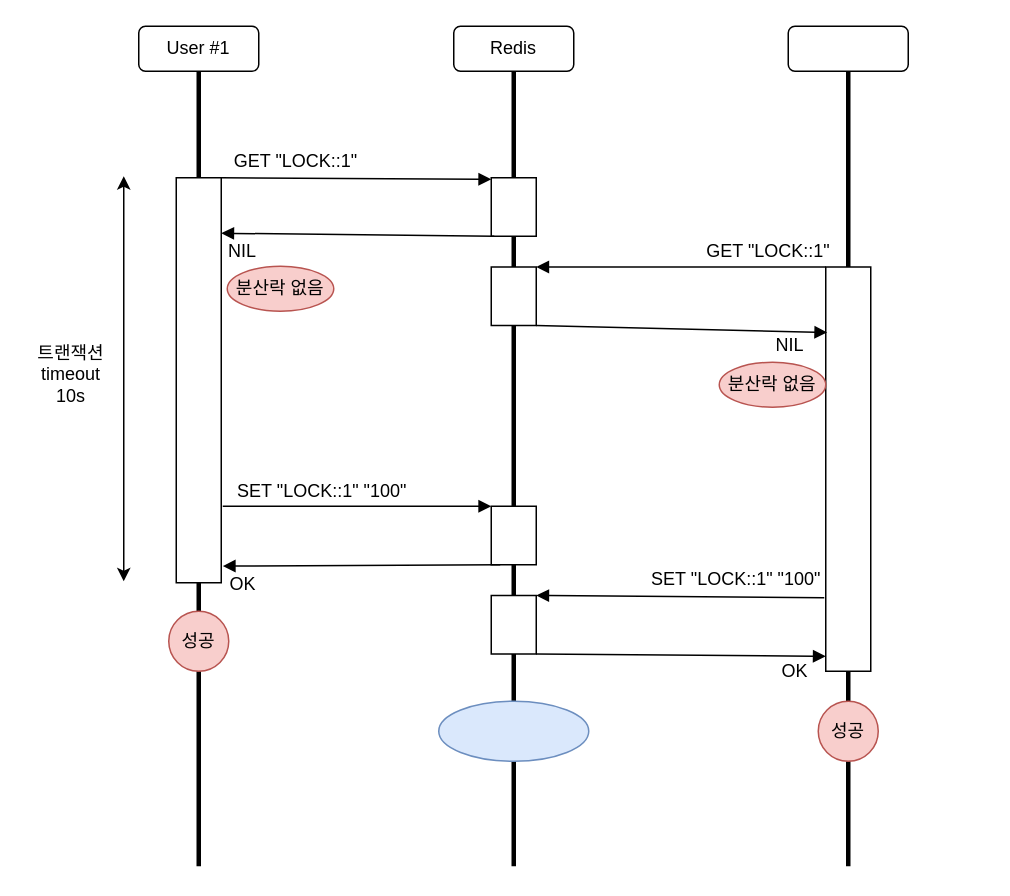
The diagram is 1010 pixels wide and 896 high, and some of its shapes have lost their labels. The centre of each missing label's shape, as x and y in pixels:
"User #2" belongs at (x=847, y=48).
"분산락이 효과없음" belongs at (x=513, y=730).
